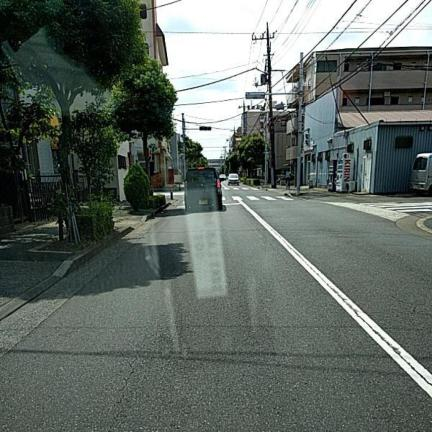Road: (0, 187, 431, 431)
